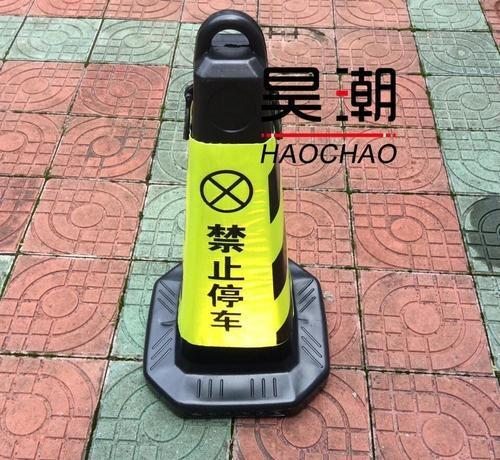cone_barrel: (150, 7, 318, 388)
